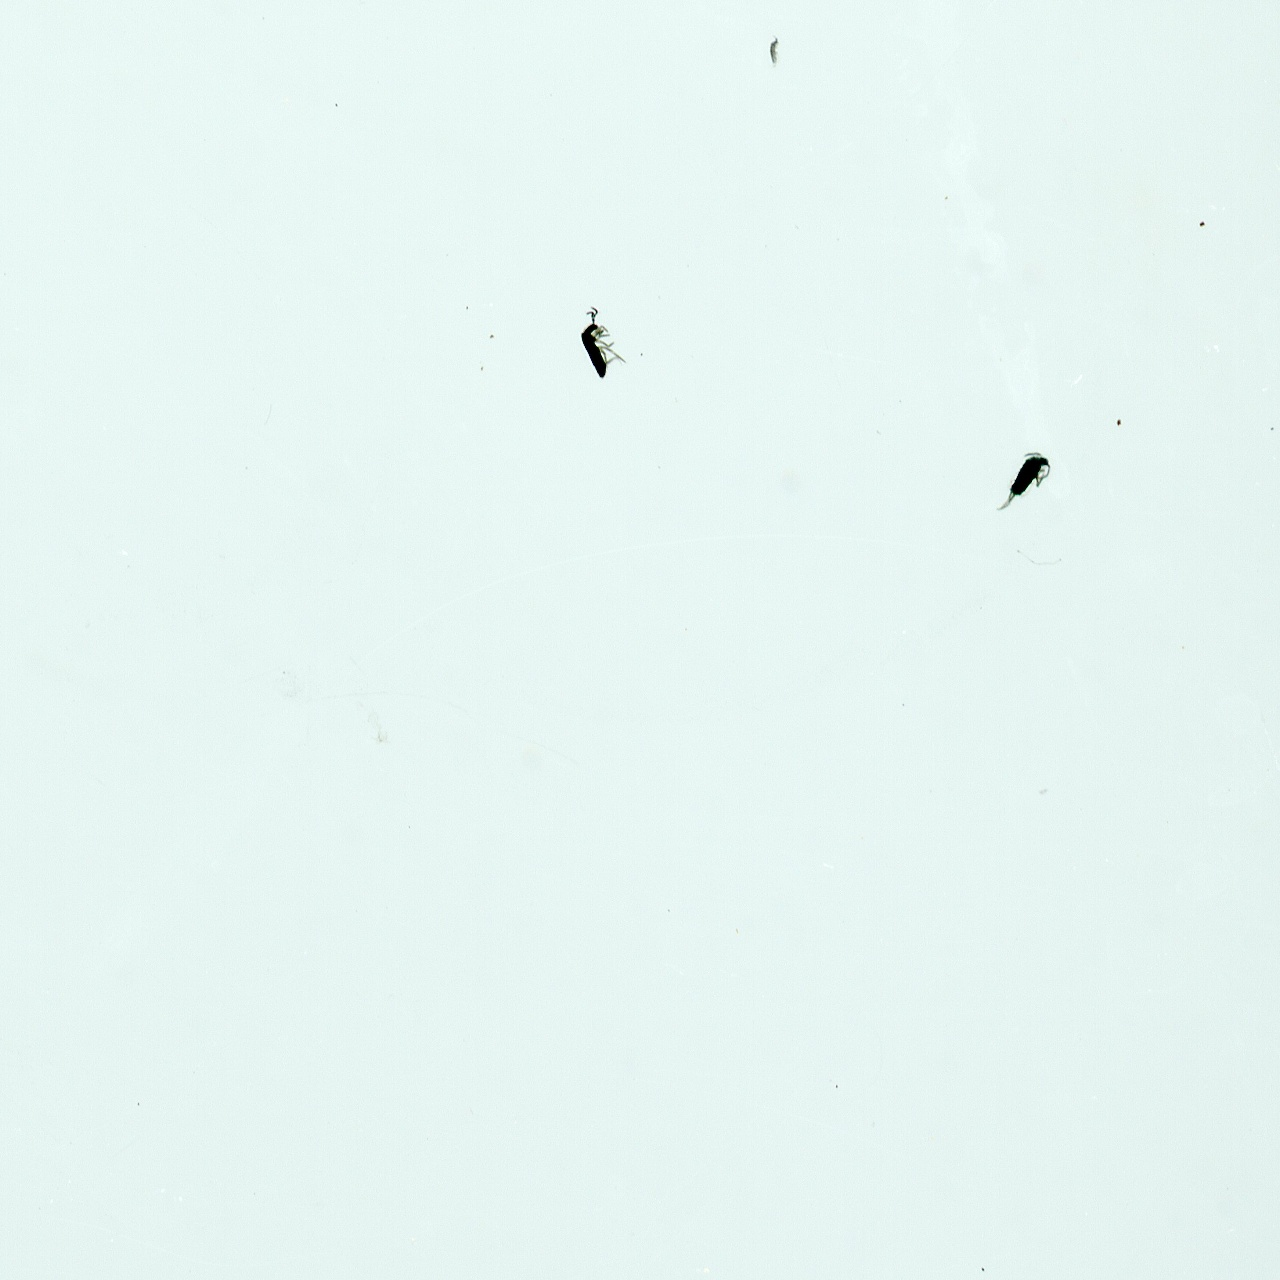arthropod: (564, 297, 640, 393), (990, 438, 1058, 527), (767, 27, 783, 79)
